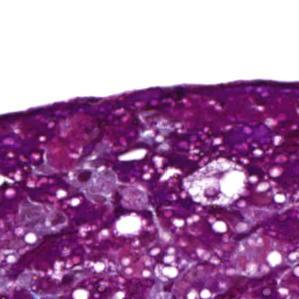ballooning: (178, 153, 250, 210)
